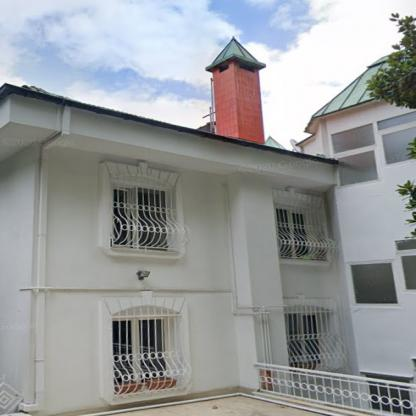window: (112, 184, 167, 250), (113, 319, 167, 381), (284, 312, 323, 364), (366, 375, 413, 415), (350, 264, 397, 304), (275, 208, 308, 257), (336, 149, 378, 185), (331, 123, 374, 152), (382, 133, 414, 164), (376, 110, 415, 129), (401, 256, 415, 288), (395, 239, 415, 250)
